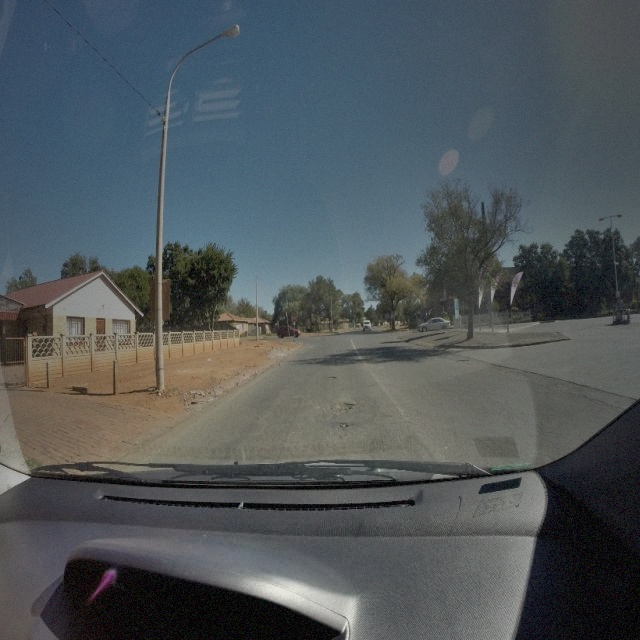pothole: (332, 398, 354, 414), (335, 419, 348, 430), (326, 373, 338, 380)
